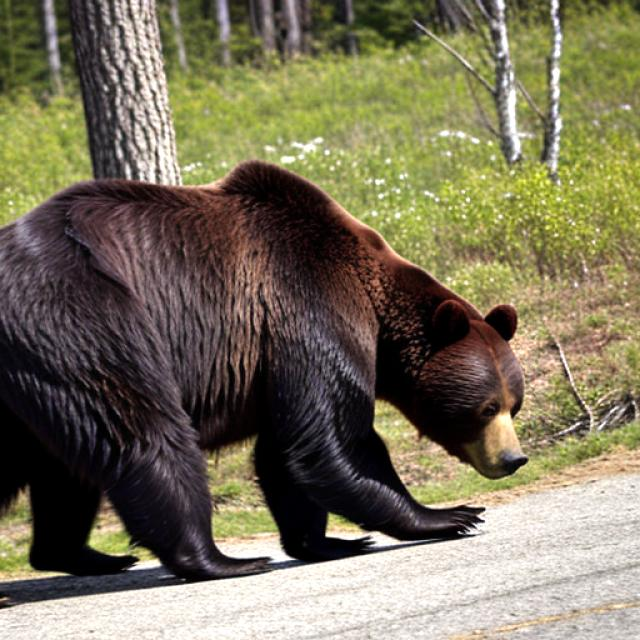bear: (374, 262, 540, 488)
